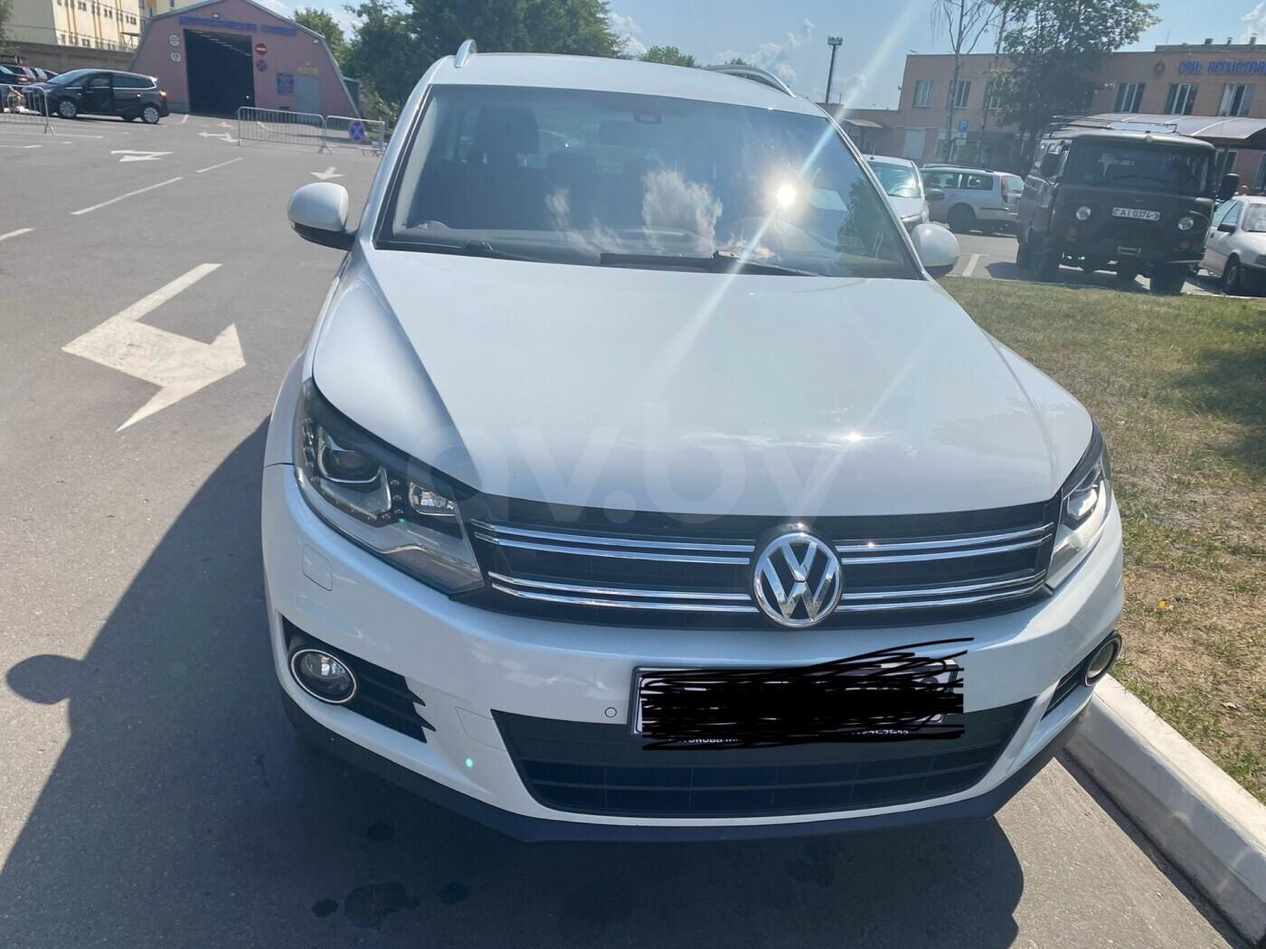Tiguan_2011-2018: (260, 39, 1133, 856)
